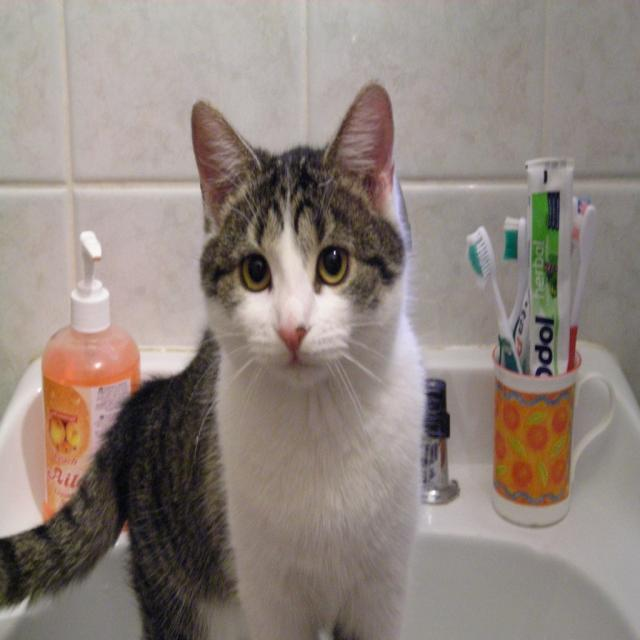cat: (0, 71, 438, 640)
